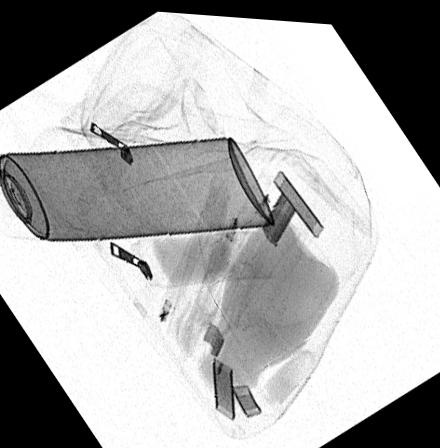Sprayer: (0, 132, 275, 240)
